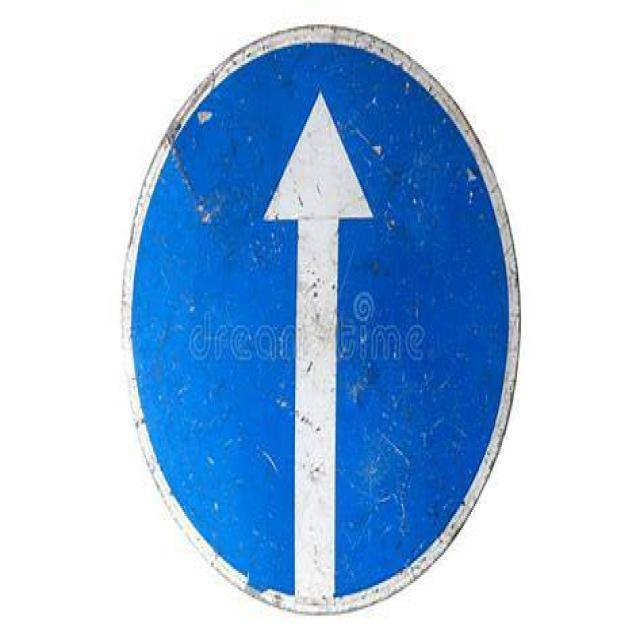compulsary ahead: (124, 26, 515, 594)
